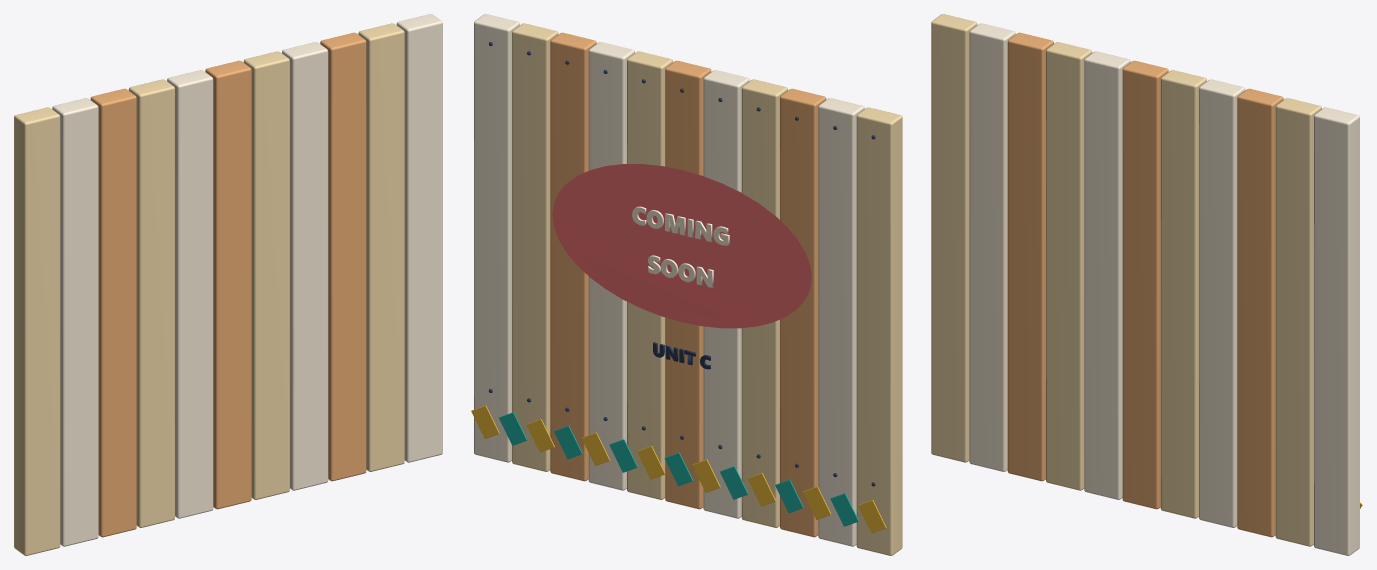
Rendered from PartitionC.fbx.
3 views of the same model, side by side, from view 1: azimuth 30°, elevation 25°; view 2: azimuth 150°, elevation 25°; view 3: azimuth 330°, elevation 25° (orthographic).
Visible parts, largest first — view 1: PartitionC mesh; view 2: PartitionC mesh; view 3: PartitionC mesh.
Boxes of the visible parts, x1,y1,x2,y2 form: PartitionC mesh: (14, 14, 442, 555); PartitionC mesh: (471, 14, 902, 555); PartitionC mesh: (931, 14, 1362, 555).
Size of the model in its own units: 2.43 by 2.4 by 0.1395.
